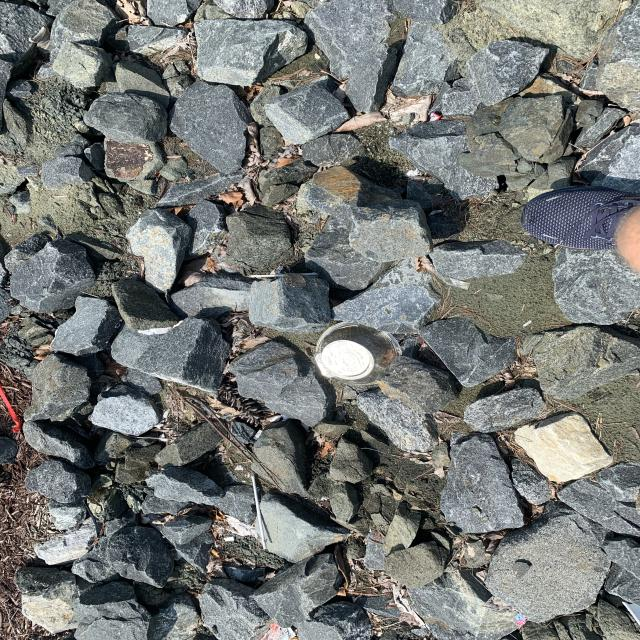Plastic: (312, 322, 404, 387)
